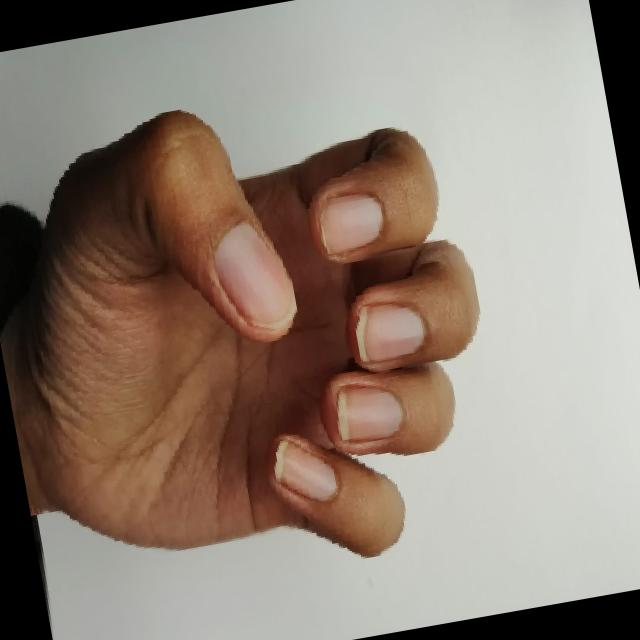Nail: (213, 222, 295, 329), (354, 303, 424, 363), (272, 439, 336, 501), (319, 193, 382, 254), (335, 387, 402, 439)
